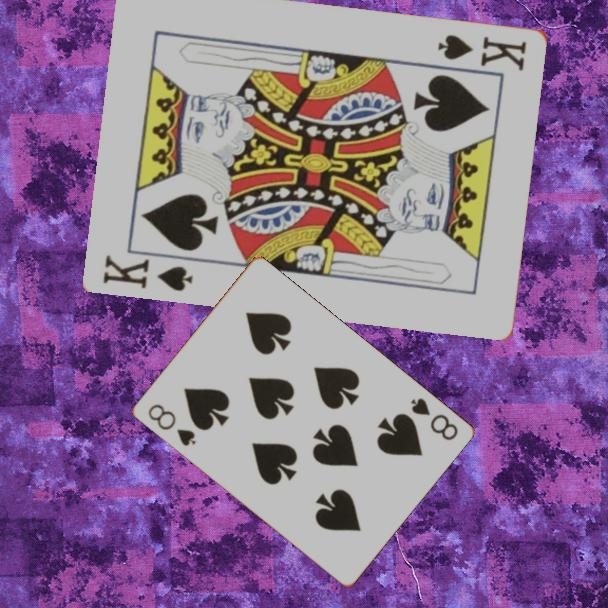s08: (406, 394, 461, 444), (144, 400, 199, 449)
s13: (100, 251, 197, 294), (435, 30, 530, 73)
